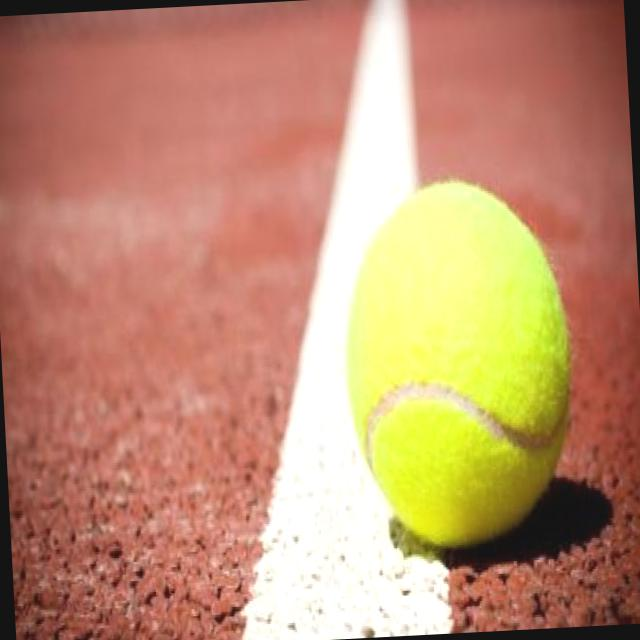Tennis Ball: (350, 183, 570, 546)
